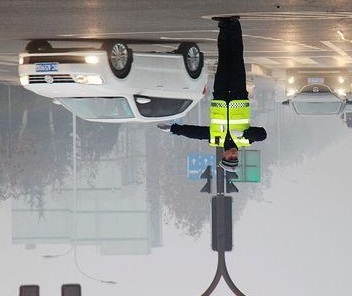person: (157, 17, 268, 173)
